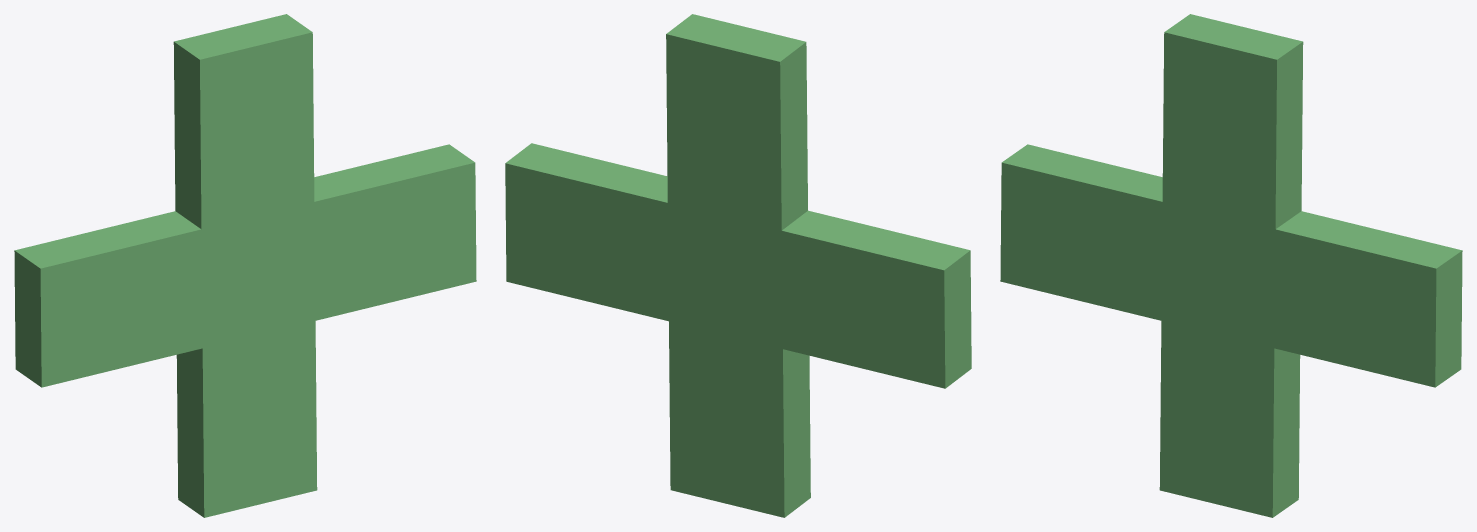
Rendered from Epic_Bombul-Elzing.glb.
The picture shows the model from 3 angles, left to right: view 1: azimuth 30°, elevation 25°; view 2: azimuth 150°, elevation 25°; view 3: azimuth 330°, elevation 25°; orthographic projection.
Parts seen in each view (by area): view 1: Mesh_Mesh_head_geo.001_lambert2SG.001; view 2: Mesh_Mesh_head_geo.001_lambert2SG.001; view 3: Mesh_Mesh_head_geo.001_lambert2SG.001.
Part boxes in pixels (x1=…): Mesh_Mesh_head_geo.001_lambert2SG.001: x1=14, y1=14, x2=476, y2=517; Mesh_Mesh_head_geo.001_lambert2SG.001: x1=505, y1=14, x2=971, y2=517; Mesh_Mesh_head_geo.001_lambert2SG.001: x1=1000, y1=14, x2=1462, y2=517.
Size of the model in its own units: 77 by 77.13 by 9.34.
